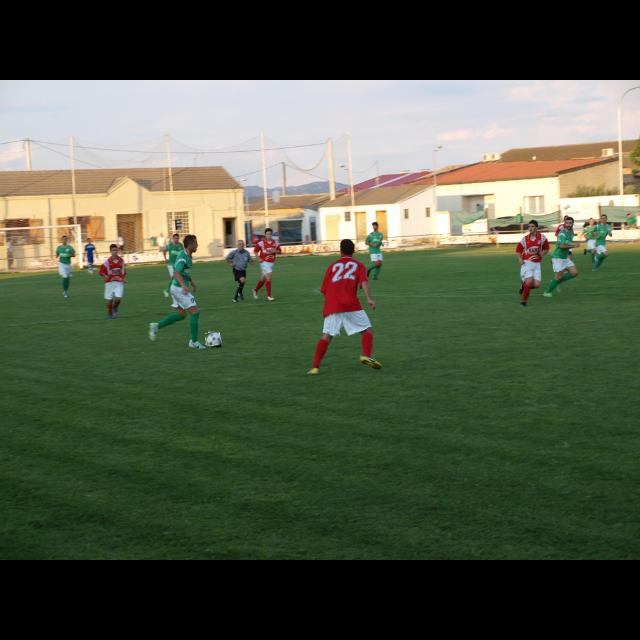Football: (205, 331, 221, 347)
